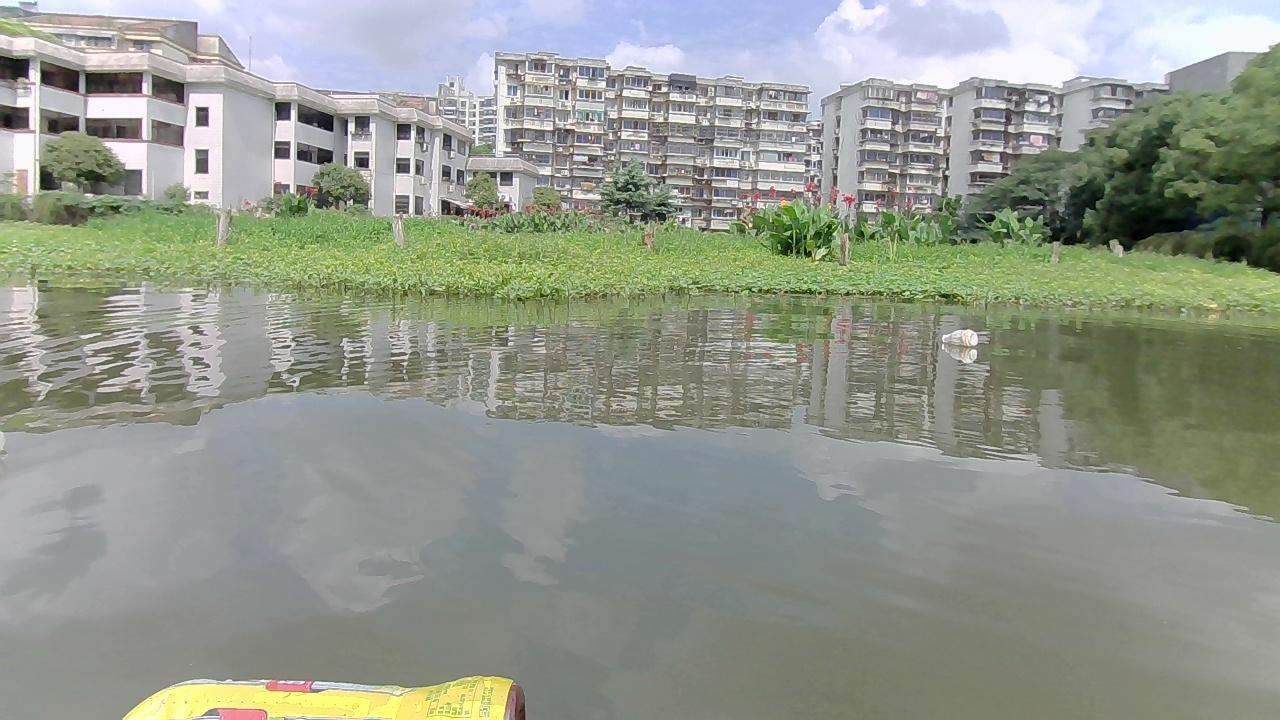bottle: (111, 675, 533, 719), (941, 327, 979, 344)
